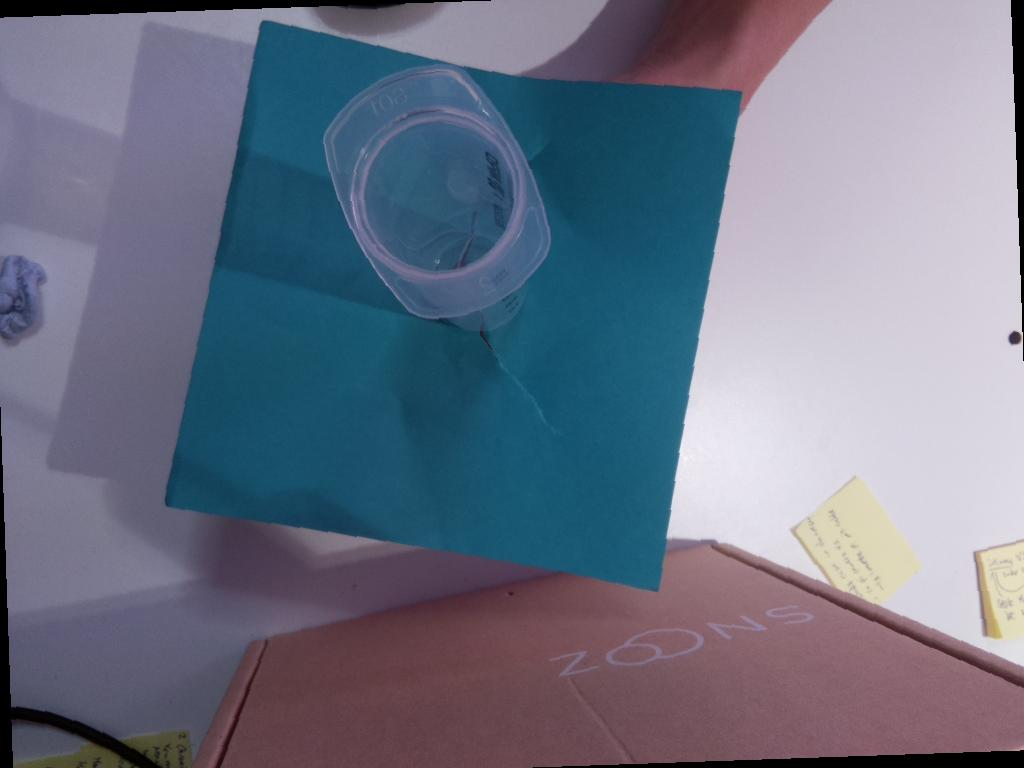clean: (319, 61, 553, 322)
